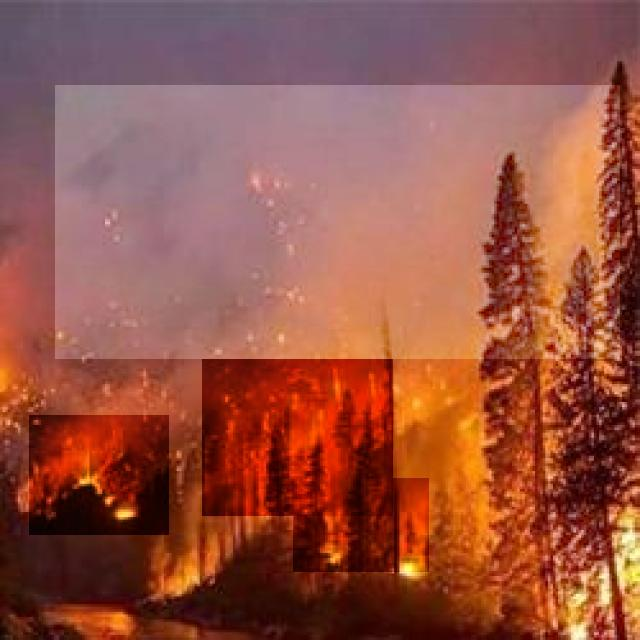Fire: (202, 350, 393, 516), (29, 415, 169, 535), (293, 478, 429, 572), (548, 514, 640, 640)
Smoke: (55, 86, 620, 360)
